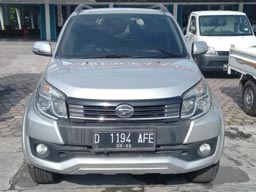plat: (92, 133, 155, 143)
